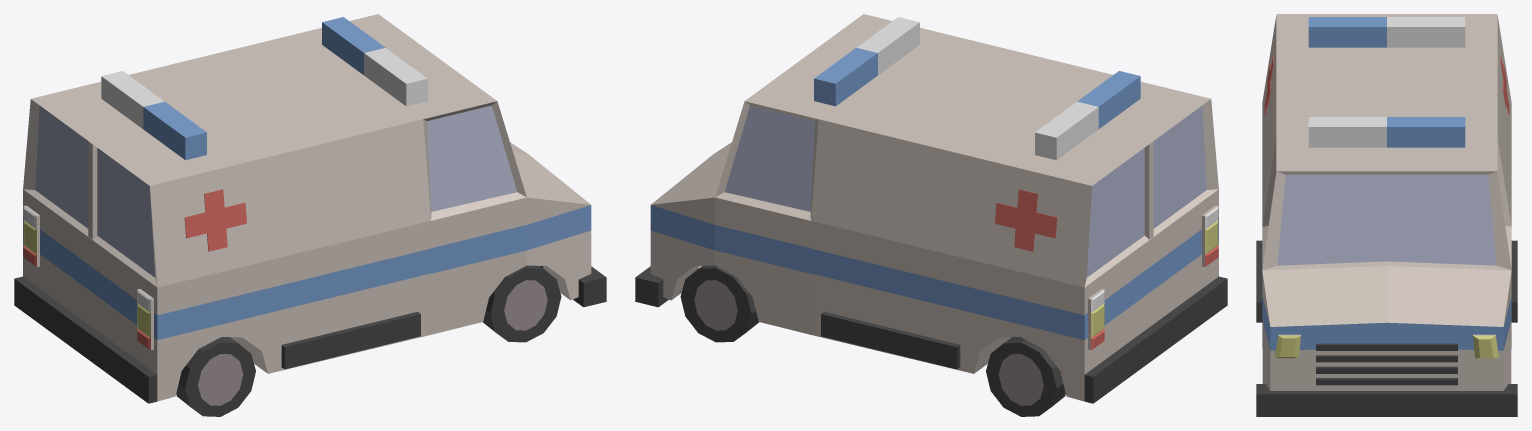
File: ambulance.fbx
3 renders of one model, left to right at view 1: azimuth 30°, elevation 25°; view 2: azimuth 150°, elevation 25°; view 3: azimuth 270°, elevation 25°, orthographic. The views are drawn at different scales.
Visible parts, largest first — view 1: Cube.022; view 2: Cube.022; view 3: Cube.022.
Part boxes in pixels (box(x1,y1,x2,y2)): Cube.022: box(14, 14, 606, 416); Cube.022: box(635, 14, 1227, 416); Cube.022: box(1256, 14, 1517, 416).
Size of the model in its own units: 709 by 394 by 381.
